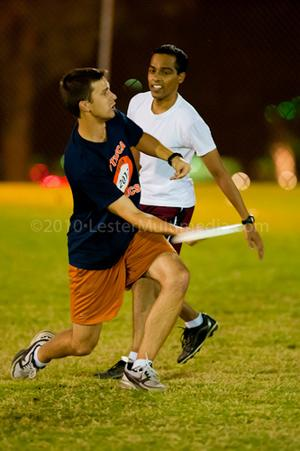person: (11, 68, 192, 392)
